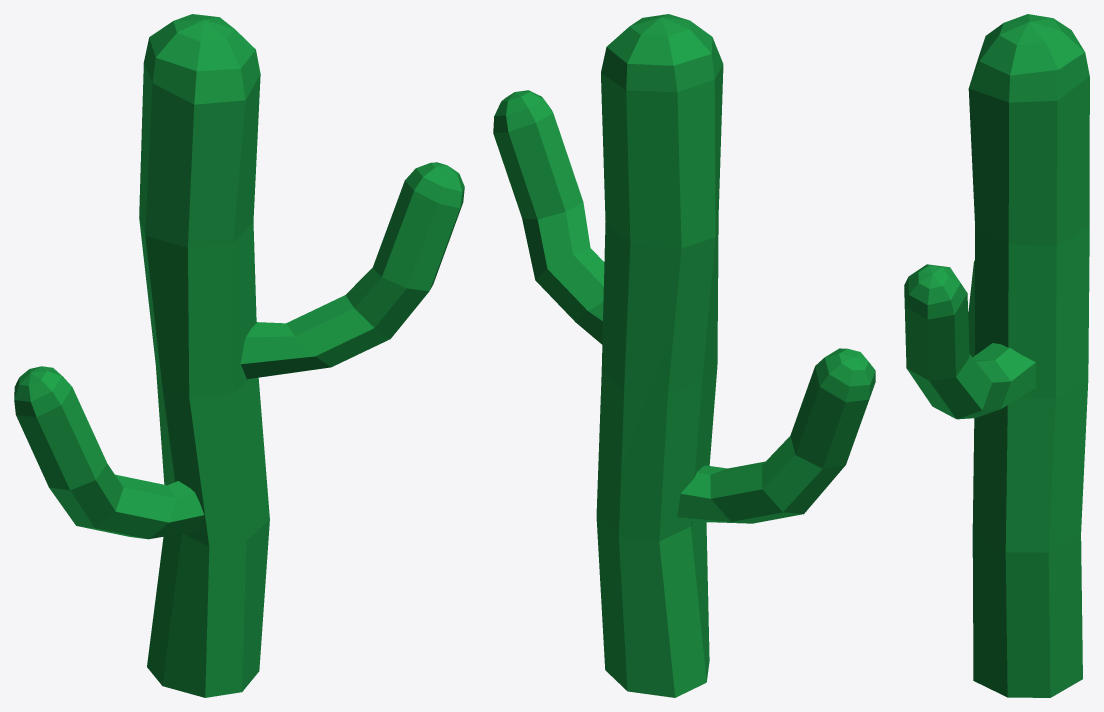
The model's file is cactus.fbx.
The picture shows the model from 3 angles, left to right: view 1: azimuth 30°, elevation 25°; view 2: azimuth 150°, elevation 25°; view 3: azimuth 270°, elevation 25°; orthographic projection.
Visible parts, largest first — view 1: Capsule052; view 2: Capsule052; view 3: Capsule052.
Boxes of the visible parts, x1,y1,x2,y2 form: Capsule052: (14,14,464,697); Capsule052: (493,14,875,697); Capsule052: (904,14,1089,697).
Bounding box in the file's own units: 671 × 1026 × 264.
